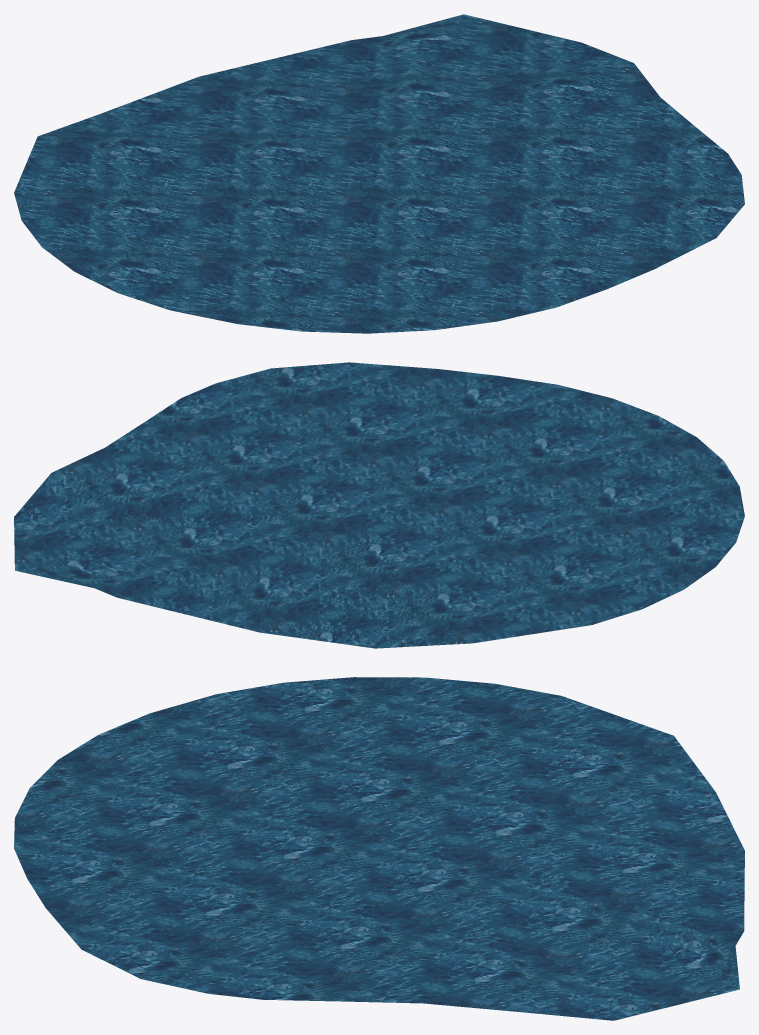
File: water2.glb
3 renders of one model, top to bottom at view 1: azimuth 30°, elevation 25°; view 2: azimuth 150°, elevation 25°; view 3: azimuth 270°, elevation 25°, orthographic. The views are drawn at different scales.
Visible parts, largest first — view 1: water_dark.jpg__; view 2: water_dark.jpg__; view 3: water_dark.jpg__.
Part boxes in pixels (x1=…): water_dark.jpg__: x1=14, y1=14, x2=744, y2=333; water_dark.jpg__: x1=14, y1=362, x2=744, y2=648; water_dark.jpg__: x1=14, y1=677, x2=744, y2=1020.
Bounding box in the file's own units: 105 × 1.94 × 97.
Materials: 1 (1 with a texture image).
